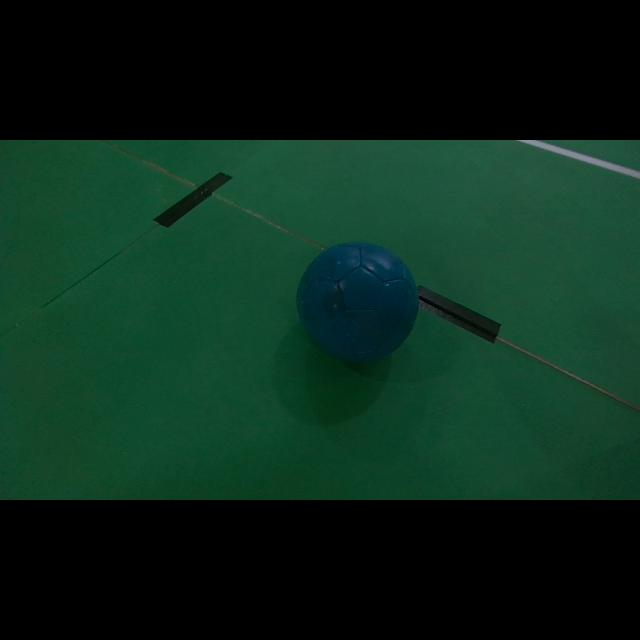B: (298, 242, 418, 362)
